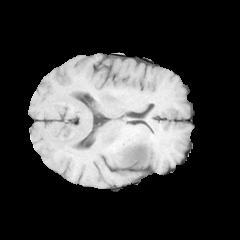glioma: (114, 138, 153, 168)
